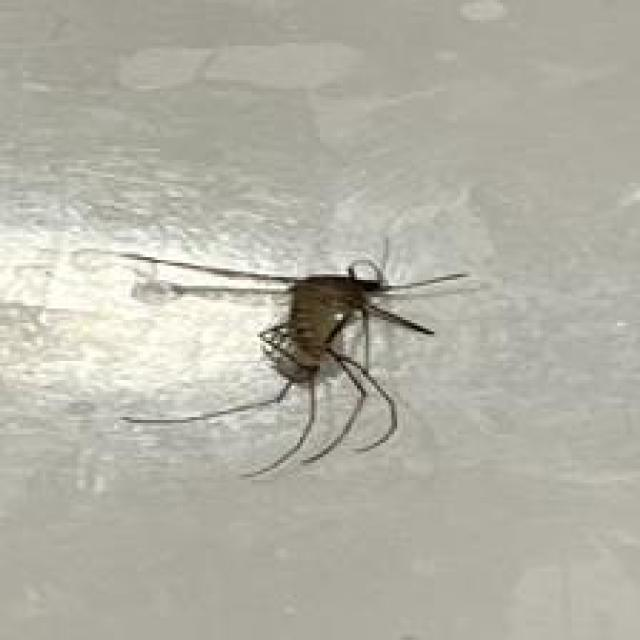Culex: (80, 237, 474, 480)
